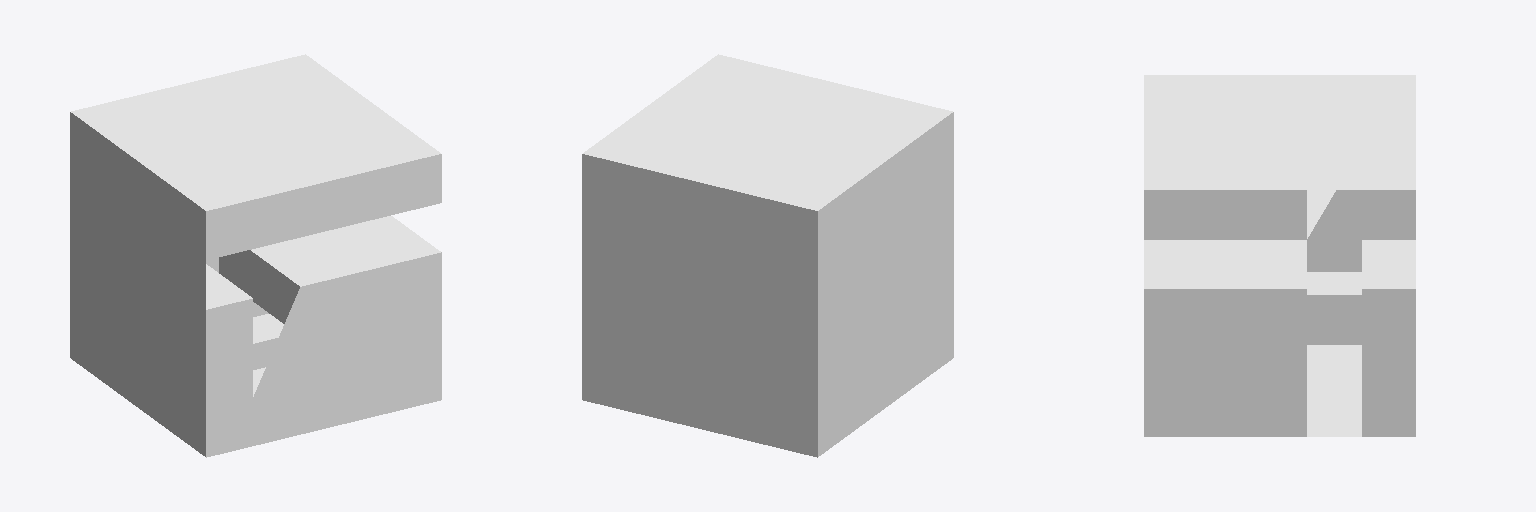
File: gestalt_cube_cut_2.obj
3 views of the same model, side by side, from view 1: azimuth 30°, elevation 25°; view 2: azimuth 150°, elevation 25°; view 3: azimuth 270°, elevation 25° (orthographic).
Parts seen in each view (by area): view 1: Mesh1 Group1 Model; view 2: Mesh1 Group1 Model; view 3: Mesh1 Group1 Model.
Part boxes in pixels (left/top/right/bottom): Mesh1 Group1 Model: left=70, top=54, right=441, bottom=457; Mesh1 Group1 Model: left=582, top=54, right=953, bottom=457; Mesh1 Group1 Model: left=1144, top=75, right=1415, bottom=436.
Size of the model in its own units: 181 by 181 by 181.